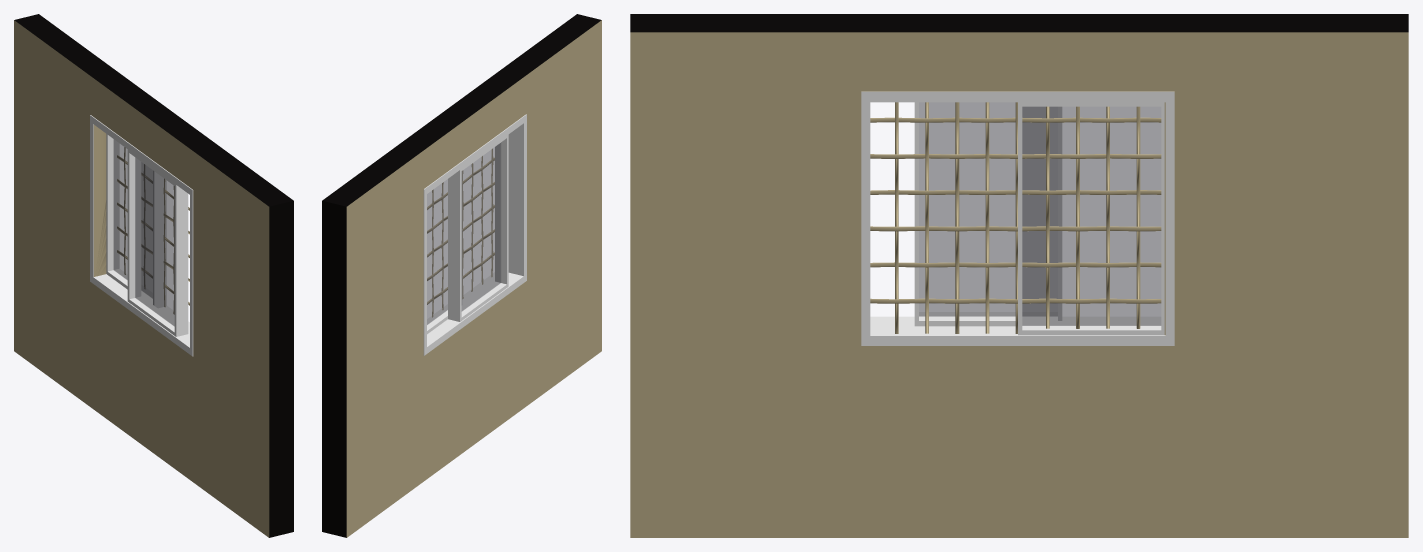
The model's file is windowwall12.FBX.fbx.
The picture shows the model from 3 angles, left to right: view 1: azimuth 30°, elevation 25°; view 2: azimuth 150°, elevation 25°; view 3: azimuth 270°, elevation 25°; orthographic projection. The views are drawn at different scales.
Parts seen in each view (by area): view 1: Box002, SlidingWindow001; view 2: Box002, SlidingWindow001; view 3: Box002, SlidingWindow001.
Boxes of the visible parts, x1=… form: Box002: x1=14, y1=14, x2=293, y2=537; SlidingWindow001: x1=90, y1=115, x2=193, y2=356; Box002: x1=322, y1=14, x2=601, y2=537; SlidingWindow001: x1=423, y1=114, x2=526, y2=355; Box002: x1=630, y1=14, x2=1408, y2=537; SlidingWindow001: x1=861, y1=91, x2=1174, y2=345.
Bounding box in the file's own units: 10.75 × 130 × 182.
